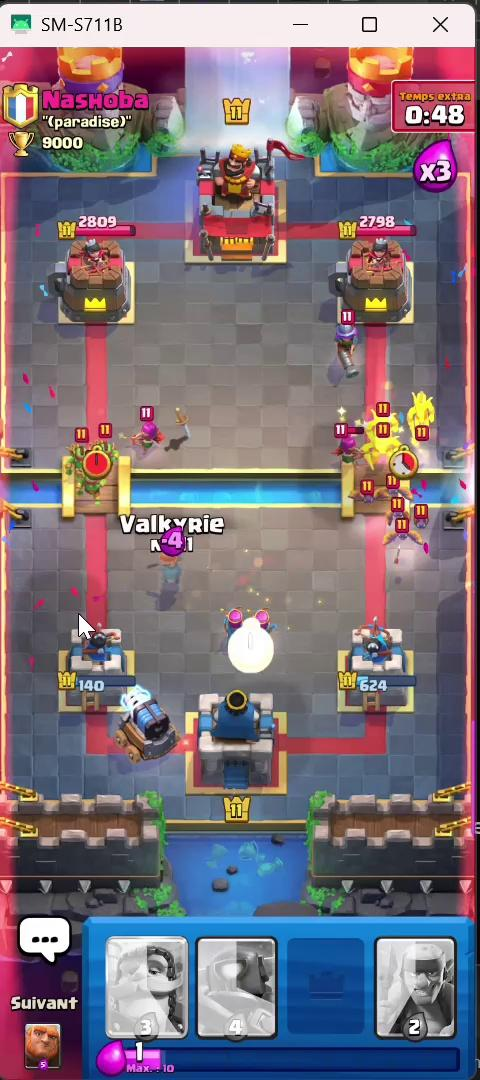archere: (120, 392, 173, 454), (316, 423, 363, 473), (206, 603, 250, 634), (243, 607, 281, 636)
bat: (347, 479, 382, 509), (377, 519, 432, 538), (412, 502, 438, 525), (381, 473, 407, 495), (387, 500, 411, 522)
gobelin: (361, 429, 404, 463), (348, 413, 406, 435), (405, 400, 436, 439)
gobelin_lances: (74, 462, 124, 513), (60, 432, 94, 477), (92, 432, 121, 470)
mousquetaire: (317, 304, 385, 383)
valkyrie: (144, 525, 189, 603)
